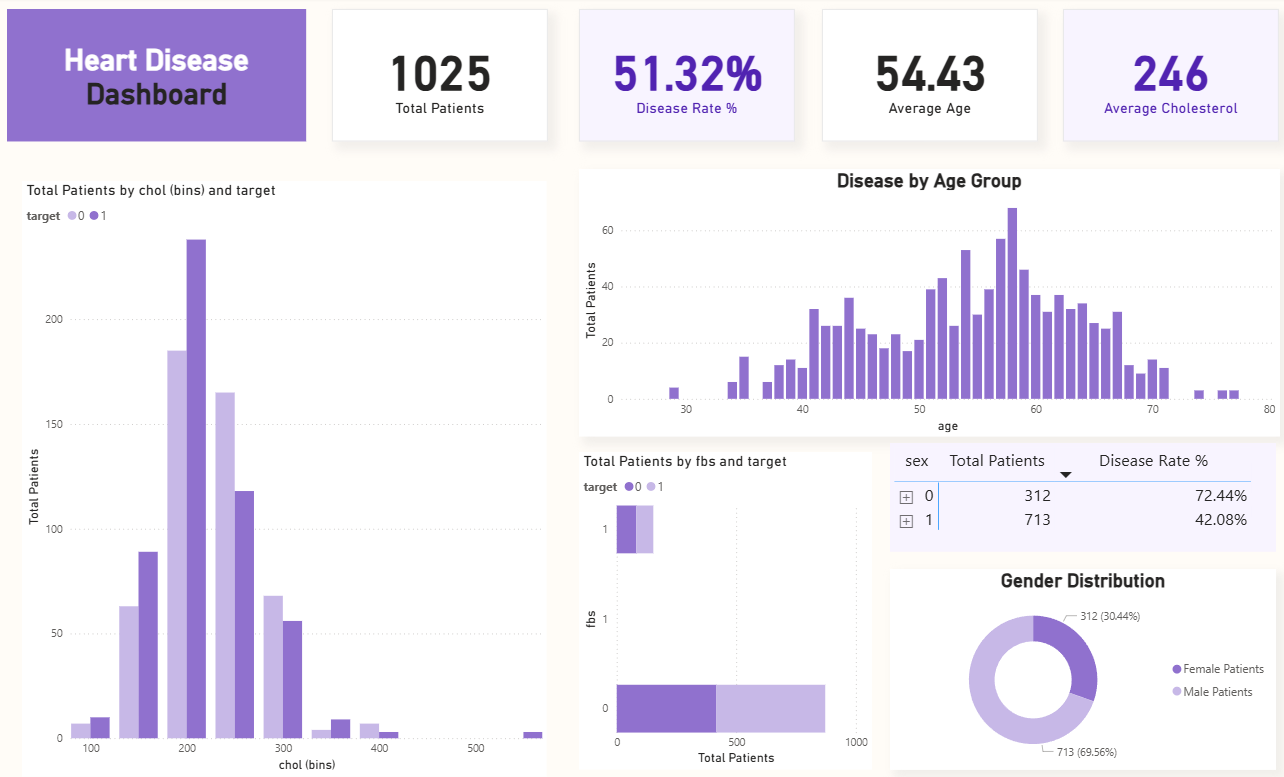

What the dashboard file says about the page in this screenshot:
{"tool":"powerbi","page":{"name":"Heart Disease","canvas":[1500,900],"ordinal":0},"visuals":[{"type":"textbox","box":[15.2,13.3,341.2,150.6],"z":0},{"type":"card","fields":{"Values":["heart.Average Cholesterol"]},"box":[1217.9,13.3,245.9,150.6],"z":1000},{"type":"card","fields":{"Values":["heart.Average Age"]},"box":[943.5,13.3,245.9,150.6],"z":2000},{"type":"card","fields":{"Values":["heart.Total Patients"]},"box":[385,13.3,245.9,150.6],"z":3000},{"type":"card","fields":{"Values":["heart.Disease Rate %"]},"box":[667.1,13.3,245.9,150.6],"z":4000},{"type":"donutChart","title":"Gender Distribution","fields":{"Y":["heart.Female Patients","heart.Male Patients"]},"box":[1021.6,651.8,440.3,228.7],"z":5000},{"type":"clusteredColumnChart","title":"Disease by Age Group","fields":{"Category":["heart.age"],"Y":["heart.Total Patients"]},"box":[667.1,196.3,798.6,305],"z":6000},{"type":"barChart","fields":{"Category":["heart.fbs"],"Y":["heart.Total Patients"],"Series":["heart.target"]},"box":[667.1,518.4,333.5,362.1],"z":7000},{"type":"clusteredColumnChart","fields":{"Category":["heart.chol (bins)"],"Y":["heart.Total Patients"],"Series":["heart.target"]},"box":[32.4,209.7,598.5,678.5],"z":8000},{"type":"pivotTable","fields":{"Rows":["heart.sex","heart.fbs","heart.exang"],"Values":["heart.Total Patients","heart.Disease Rate %"]},"box":[1021.6,508.9,440.3,123.9],"z":8001}]}

Visuals, with their boxes in screenshot pixels (x1, y1, x2, y2), scaled from the page's 1500x900 canvas onto the 1284x777 screenshot:
textbox: left=13, top=11, right=305, bottom=142
card - heart.Average Cholesterol: left=1043, top=11, right=1253, bottom=142
card - heart.Average Age: left=808, top=11, right=1018, bottom=142
card - heart.Total Patients: left=330, top=11, right=540, bottom=142
card - heart.Disease Rate %: left=571, top=11, right=782, bottom=142
"Gender Distribution" donutChart: left=874, top=563, right=1251, bottom=760
"Disease by Age Group" clusteredColumnChart: left=571, top=169, right=1255, bottom=433
barChart - heart.fbs x heart.Total Patients: left=571, top=448, right=857, bottom=760
clusteredColumnChart - heart.chol (bins) x heart.Total Patients: left=28, top=181, right=540, bottom=767
pivotTable - heart.sex x heart.fbs: left=874, top=439, right=1251, bottom=546
